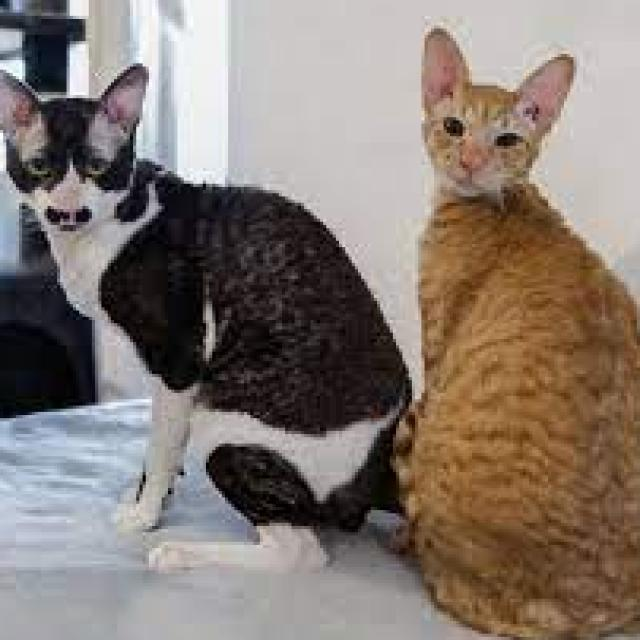Cornish Rex: (0, 54, 415, 580), (386, 19, 640, 640)
